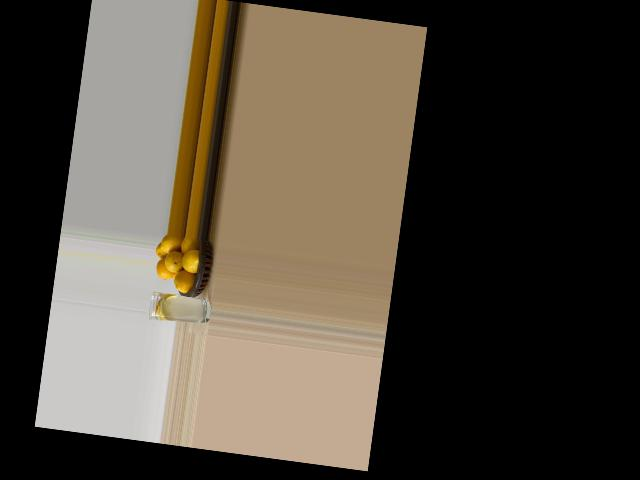lemon: (157, 233, 184, 257)
